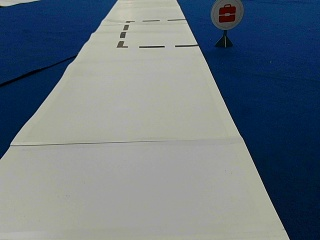company: (210, 1, 244, 29)
